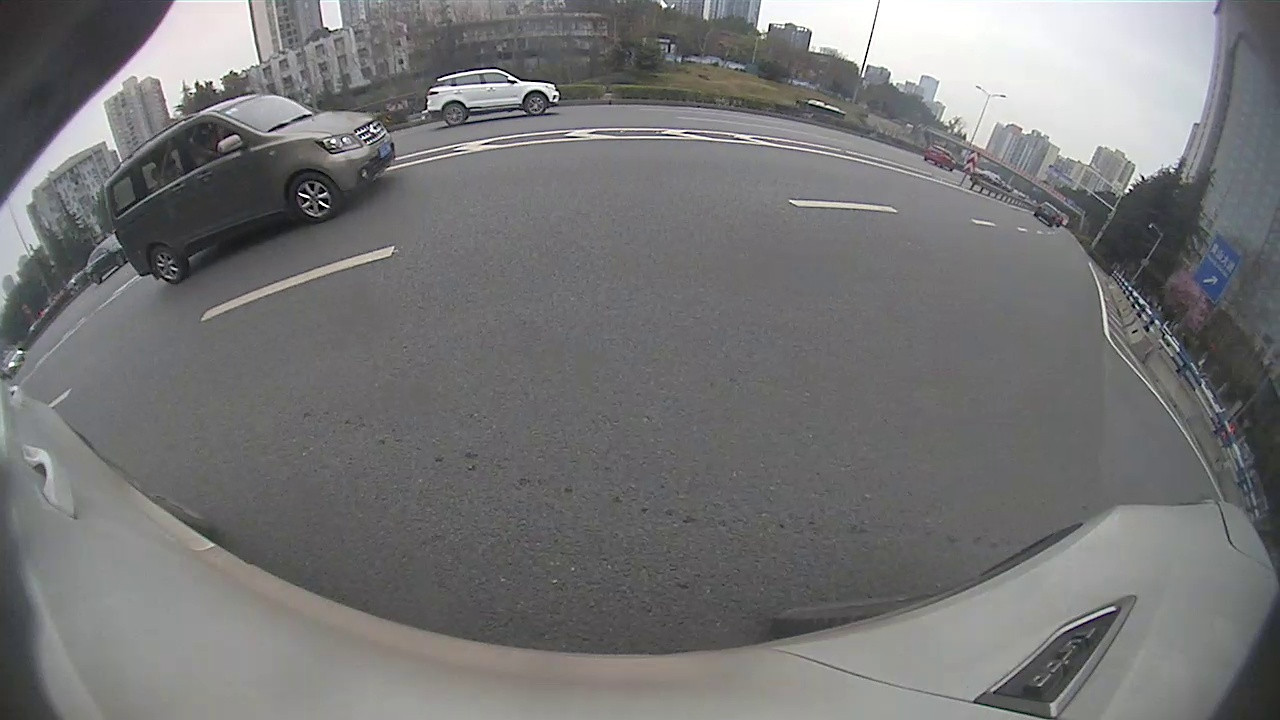car: (102, 92, 398, 286), (424, 68, 558, 129), (1033, 198, 1065, 229), (924, 143, 958, 172)
front: (285, 169, 341, 225), (522, 91, 548, 118)
rear: (149, 244, 190, 285), (440, 101, 469, 125)
